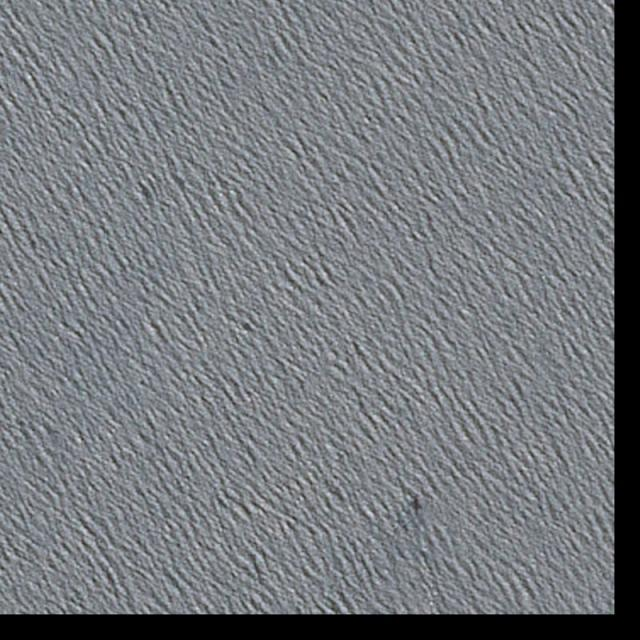ship: (415, 494, 422, 516)
